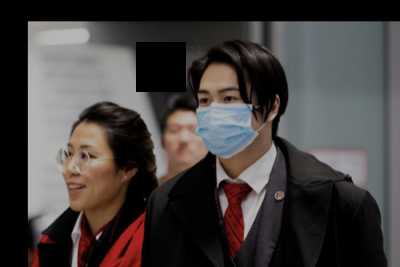with_mask: (193, 86, 259, 160)
without_mask: (59, 140, 118, 212), (161, 110, 204, 167)
